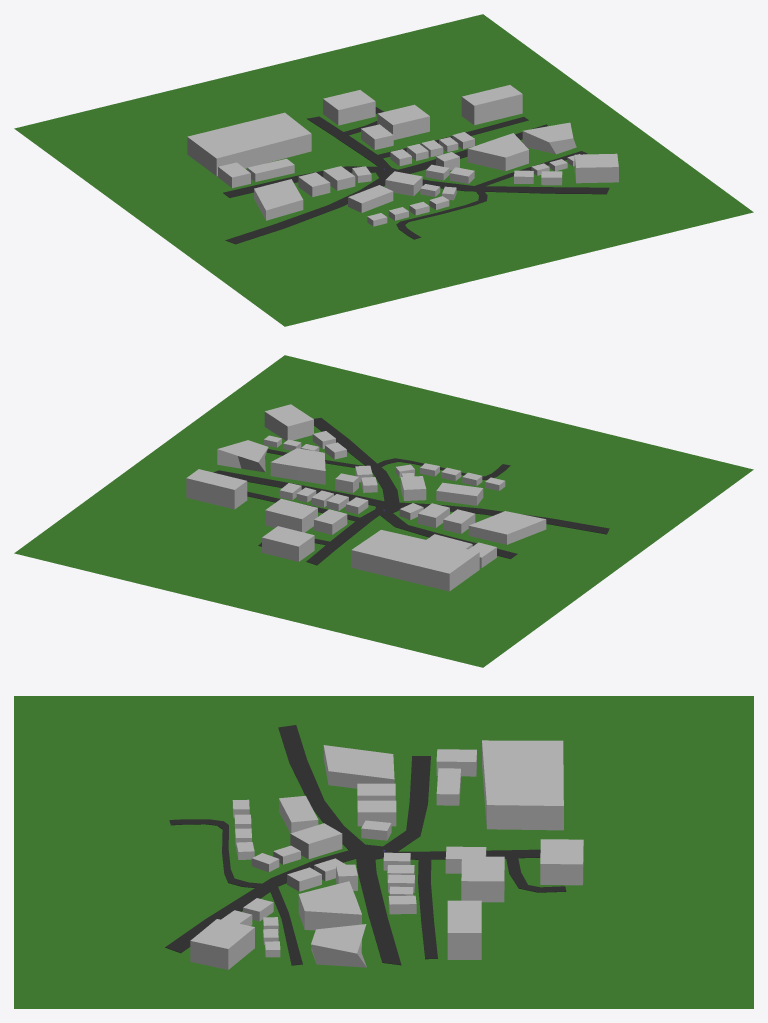
The model's file is town2.glb.
3 views of the same model, one above another, from view 1: azimuth 30°, elevation 25°; view 2: azimuth 150°, elevation 25°; view 3: azimuth 270°, elevation 25° (orthographic). The views are drawn at different scales.
Parts seen in each view (by area): view 1: Plane.001, Plane, Cube.021, Cube, Cube.011, Cube.020, Cube.024, Cube.001, Cube.034, Cube.012, Cube.016, Cube.023 (+5 smaller); view 2: Plane.001, Plane, Cube.021, Cube, Cube.020, Cube.011, Cube.024, Cube.034, Cube.001, Cube.012, Cube.016, Cube.002 (+3 smaller); view 3: Plane.001, Plane, Cube.021, Cube.020, Cube.034, Cube.011, Cube, Cube.024, Cube.001, Cube.012, Cube.013, Cube.016 (+8 smaller).
Part boxes in pixels (x1,y1,x2,y2): Plane.001: [14, 14, 753, 326]; Plane: [223, 107, 609, 244]; Cube.021: [187, 112, 311, 176]; Cube: [461, 85, 522, 125]; Cube.011: [467, 133, 528, 171]; Cube.020: [254, 179, 303, 220]; Cube.024: [323, 90, 375, 125]; Cube.001: [377, 104, 429, 139]; Cube.034: [574, 153, 618, 183]; Cube.012: [522, 122, 576, 154]; Cube.016: [348, 185, 393, 212]; Cube.023: [247, 158, 294, 181]; Plane.001: [14, 355, 753, 667]; Plane: [213, 417, 609, 565]; Cube.021: [351, 530, 479, 591]; Cube: [186, 469, 247, 509]; Cube.020: [468, 511, 546, 544]; Cube.011: [270, 448, 325, 484]; Cube.024: [262, 526, 314, 561]; Cube.034: [264, 404, 313, 440]; Cube.001: [265, 498, 317, 532]; Cube.012: [217, 440, 268, 472]; Cube.016: [436, 482, 483, 505]; Cube.002: [314, 509, 347, 534]; Plane.001: [14, 696, 753, 1008]; Plane: [165, 725, 566, 965]; Cube.021: [482, 740, 563, 830]; Cube.020: [323, 745, 394, 788]; Cube.034: [190, 919, 254, 969]; Cube.011: [298, 881, 361, 930]; Cube: [447, 900, 481, 959]; Cube.024: [540, 839, 583, 885]; Cube.001: [461, 856, 504, 902]; Cube.012: [311, 924, 366, 967]; Cube.013: [290, 823, 342, 859]; Cube.016: [279, 795, 318, 833].
Bounding box in the file's own units: 78.17 × 3.22 × 78.17.
